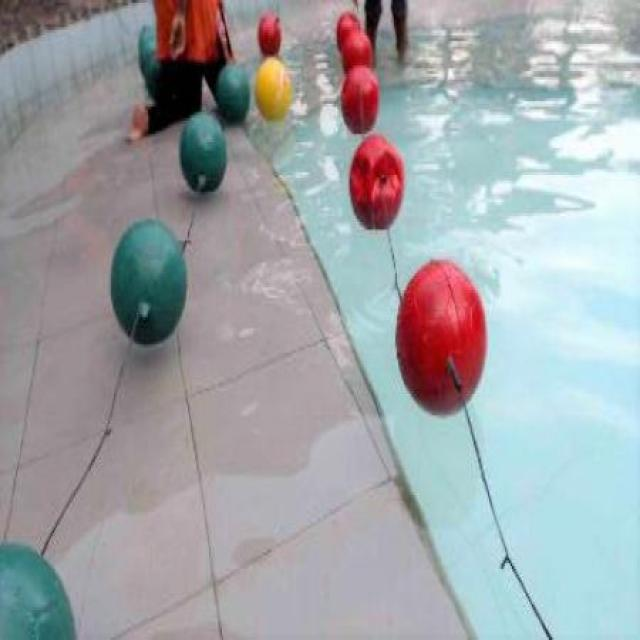buoy: (394, 255, 486, 418), (110, 217, 187, 346), (1, 540, 79, 636), (348, 132, 403, 230), (178, 111, 225, 191), (340, 63, 380, 134), (254, 55, 291, 120), (216, 61, 250, 120), (339, 32, 372, 78), (335, 11, 360, 49), (256, 13, 279, 52), (139, 40, 157, 75)
